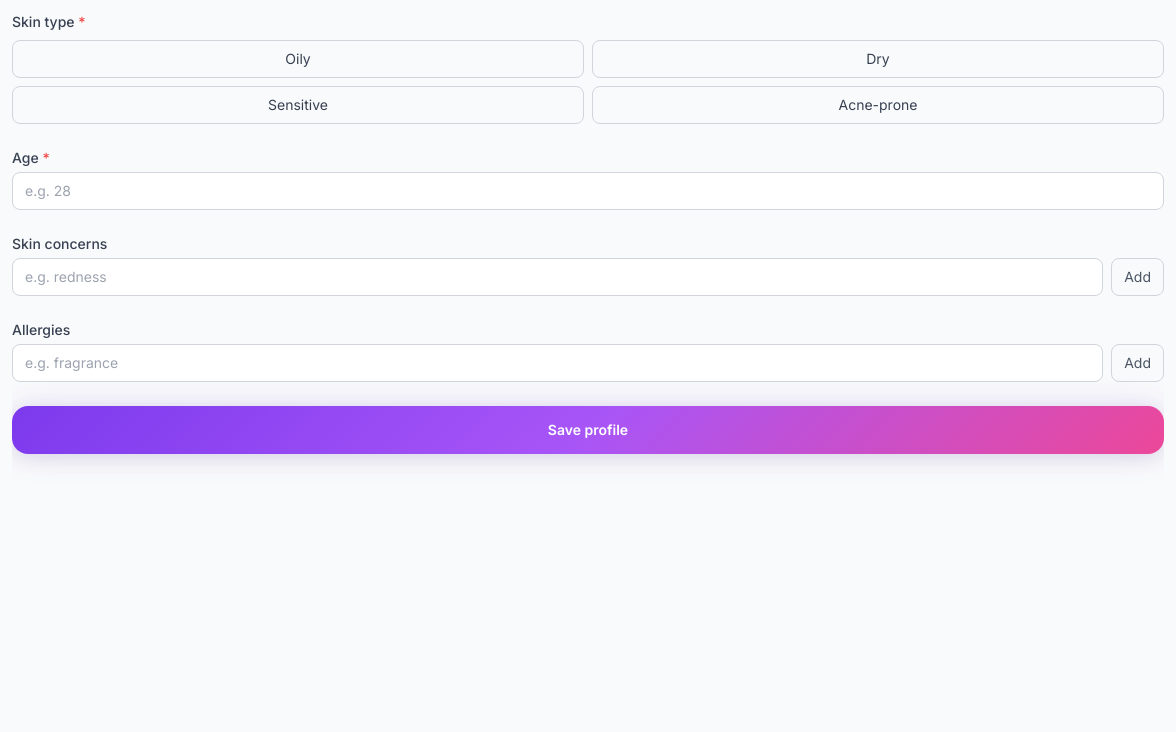
Scenario: SkinProfileForm › shows inline error for missing skinType when form is submitted
// Submit without filling anything
Click the button "Save profile" at (588, 430), box [12, 406, 1164, 454]
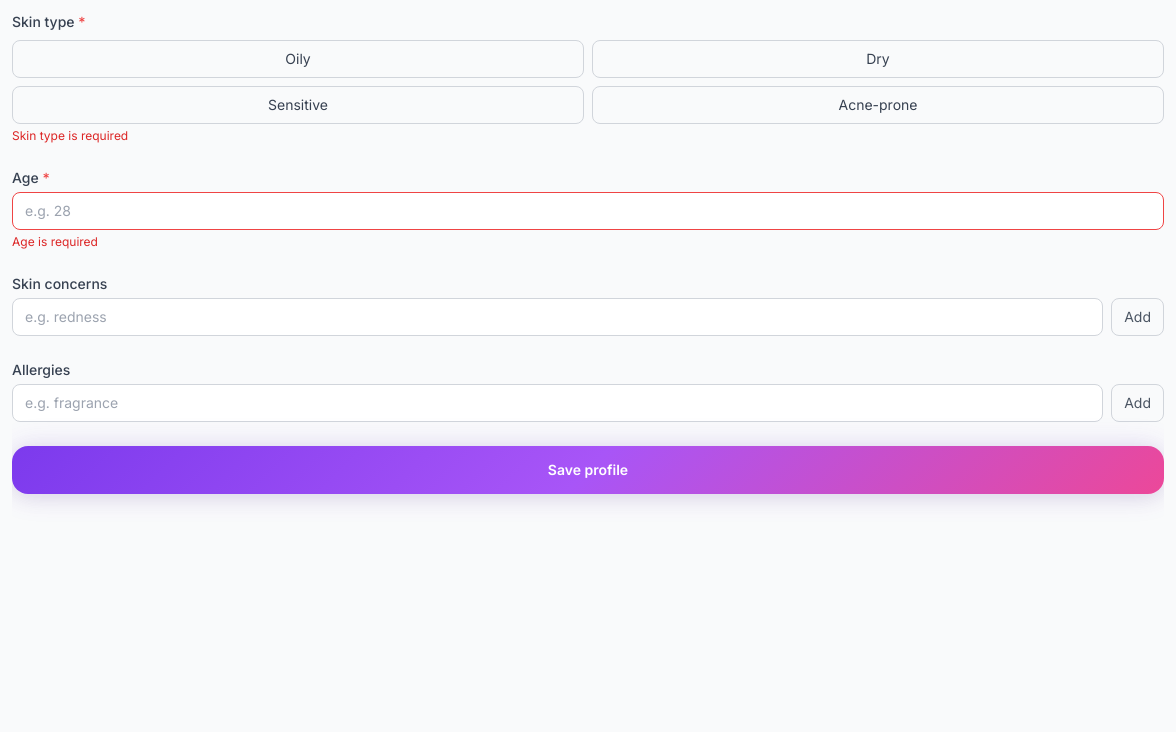
Expected: the text "Skin type is required" is shown, [12, 128, 128, 143]
